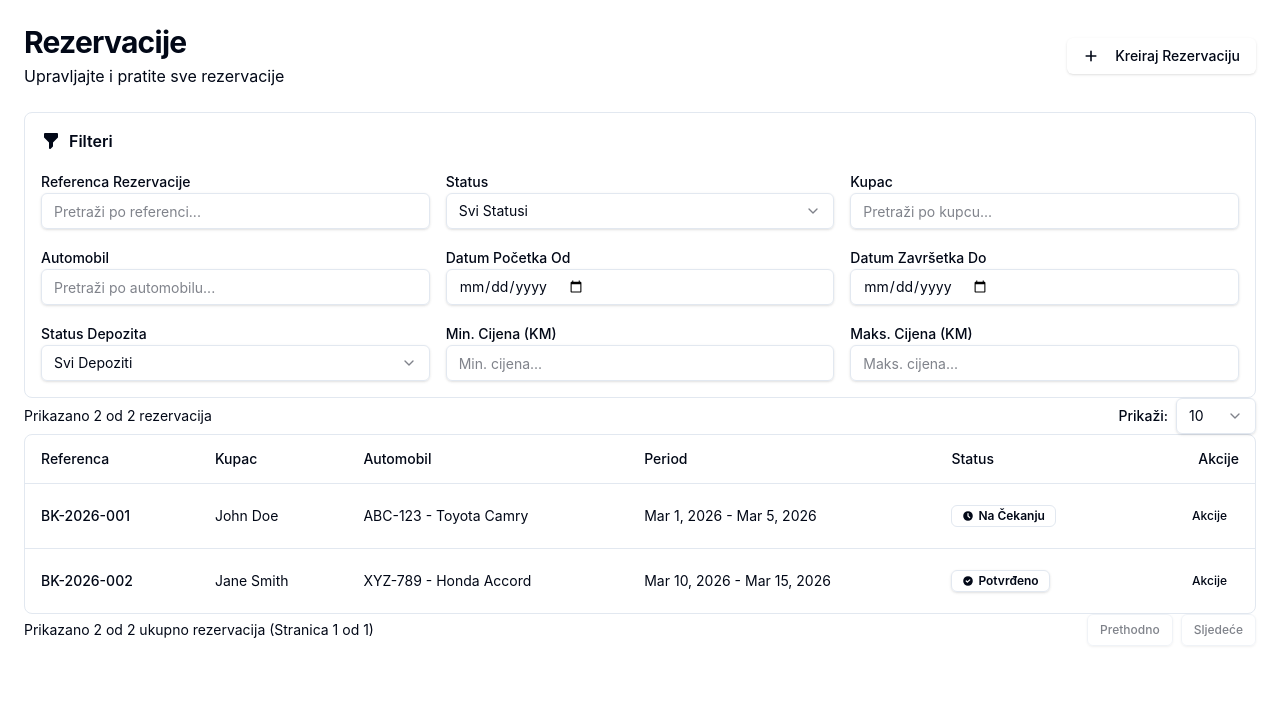
Scenario: BookingsPage › User Actions › should open cancel dialog
This screenshot has width=1280, height=720.
Expected: the text "BK-2026-001" is shown, [25,483,199,548]
Click the button "Akcije" in the row of "BK-2026-001" at (1210, 516), box [1180,500,1239,532]
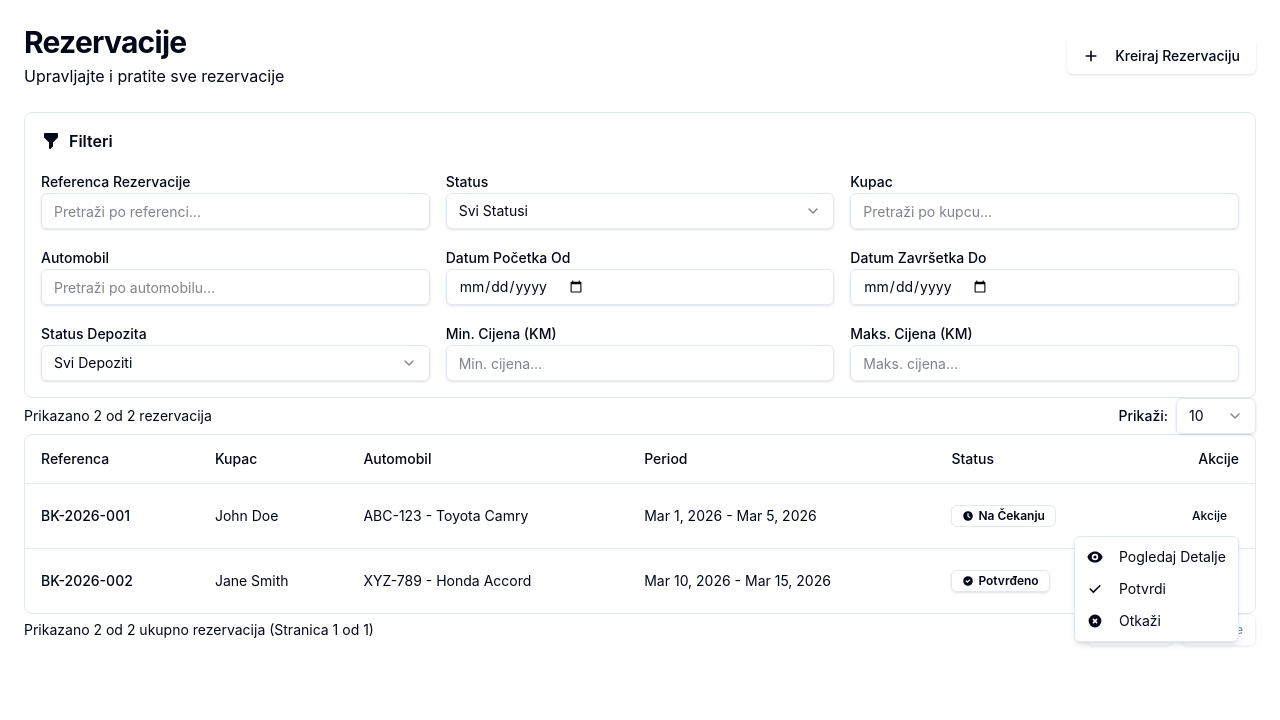
Click the menu item "Otkaži" at (1124, 620), box [1087,612,1161,629]
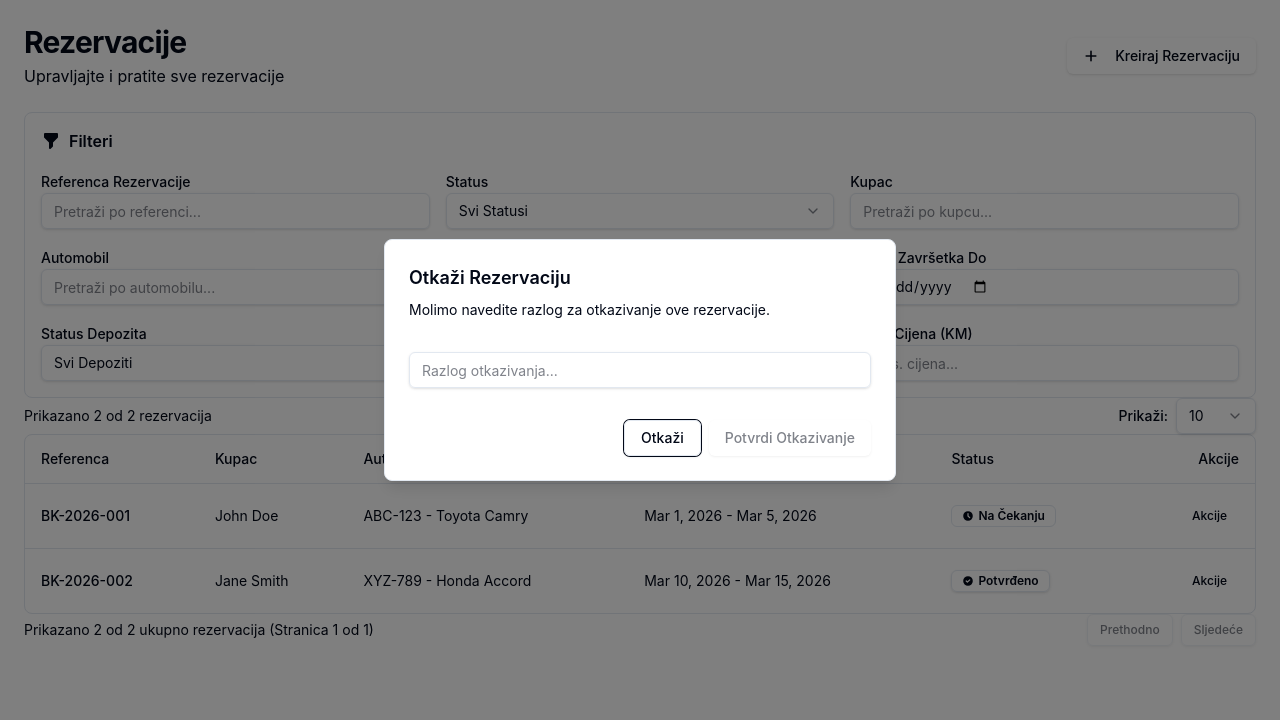
Expected: the heading "Otkaži Rezervaciju" is shown, [409,267,571,288]
Expected: the text "Molimo navedite razlog za otkazivanje ove rezervacije." is shown, [409,301,770,318]
